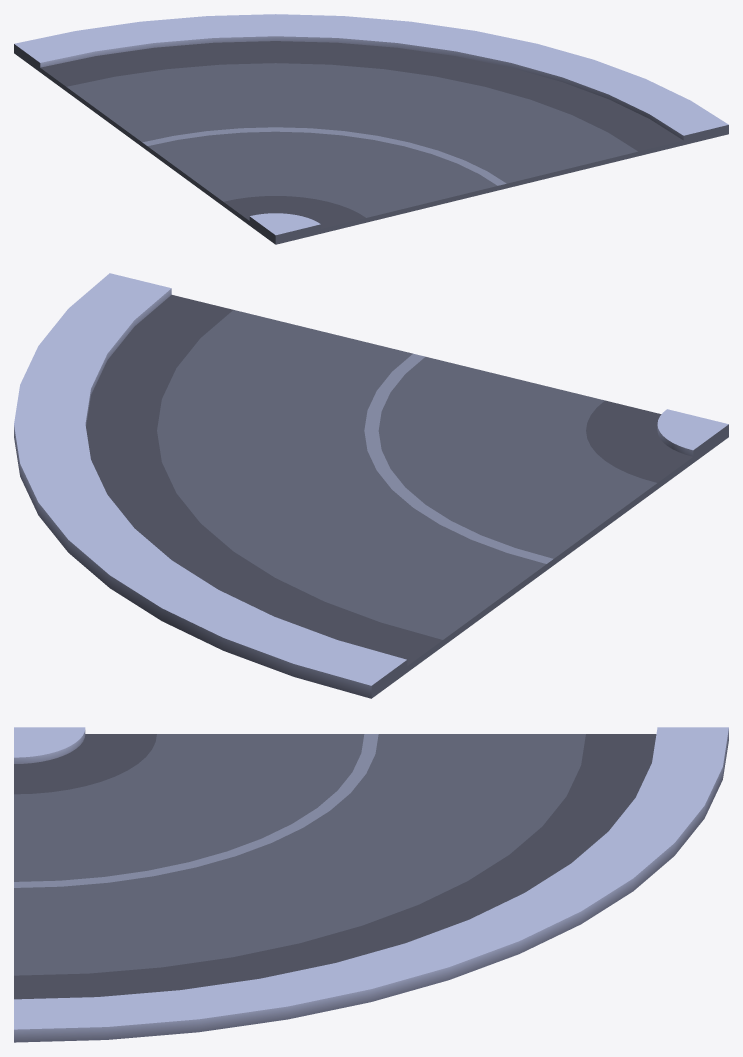
The picture shows the model from 3 angles, top to bottom: view 1: azimuth 30°, elevation 25°; view 2: azimuth 150°, elevation 25°; view 3: azimuth 270°, elevation 25°; orthographic projection. The views are drawn at different scales.
Visible parts, largest first — view 1: road-bend; view 2: road-bend; view 3: road-bend.
Boxes of the visible parts, box(x1,y1,x2,y2) form: road-bend: box(14, 14, 728, 244); road-bend: box(14, 273, 728, 698); road-bend: box(14, 727, 728, 1042).
Bounding box in the file's own units: 10.68 × 0.2136 × 10.68.
Materials: 1 (1 with a texture image).
